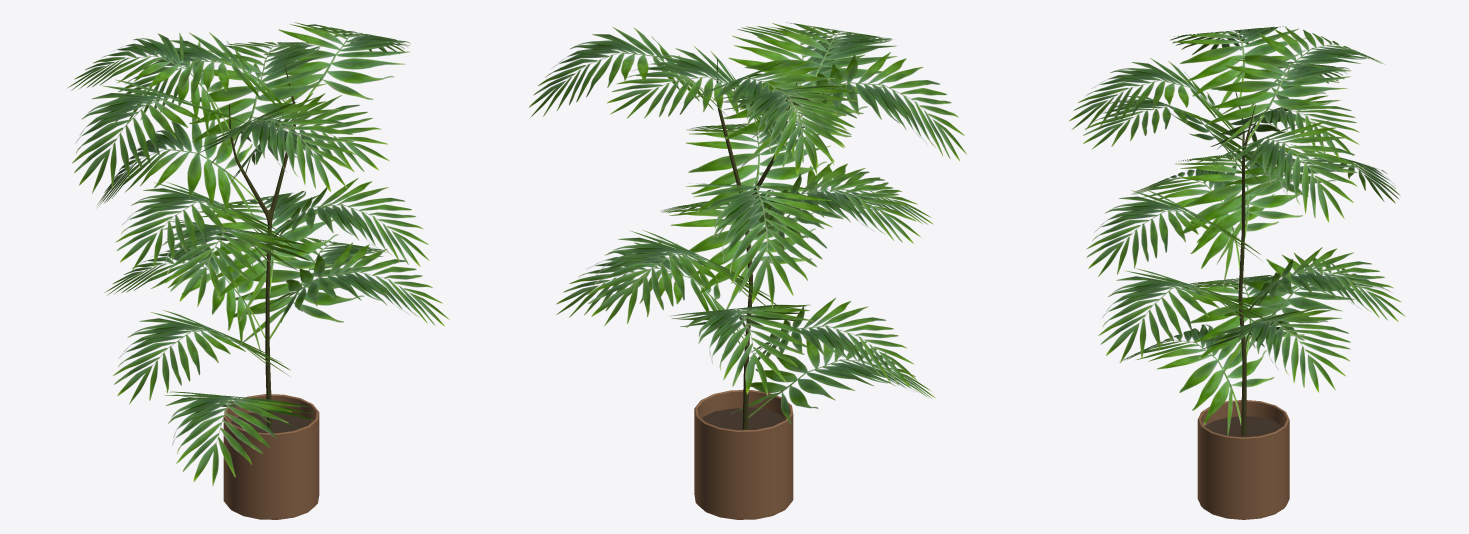
Rendered from Kentia Palm Plant w_ Pot.glb.
The picture shows the model from 3 angles, left to right: view 1: azimuth 30°, elevation 25°; view 2: azimuth 150°, elevation 25°; view 3: azimuth 270°, elevation 25°; orthographic projection. The views are drawn at different scales.
Parts seen in each view (by area): view 1: Kentia Palm Plant w/ Pot; view 2: Kentia Palm Plant w/ Pot; view 3: Kentia Palm Plant w/ Pot.
Part boxes in pixels (x1,y1,x2,y2): Kentia Palm Plant w/ Pot: (67, 22, 449, 519); Kentia Palm Plant w/ Pot: (529, 22, 966, 519); Kentia Palm Plant w/ Pot: (1069, 26, 1405, 519).
Size of the model in its own units: 1.29 by 1.22 by 1.13.
3 materials, 2 textured.
